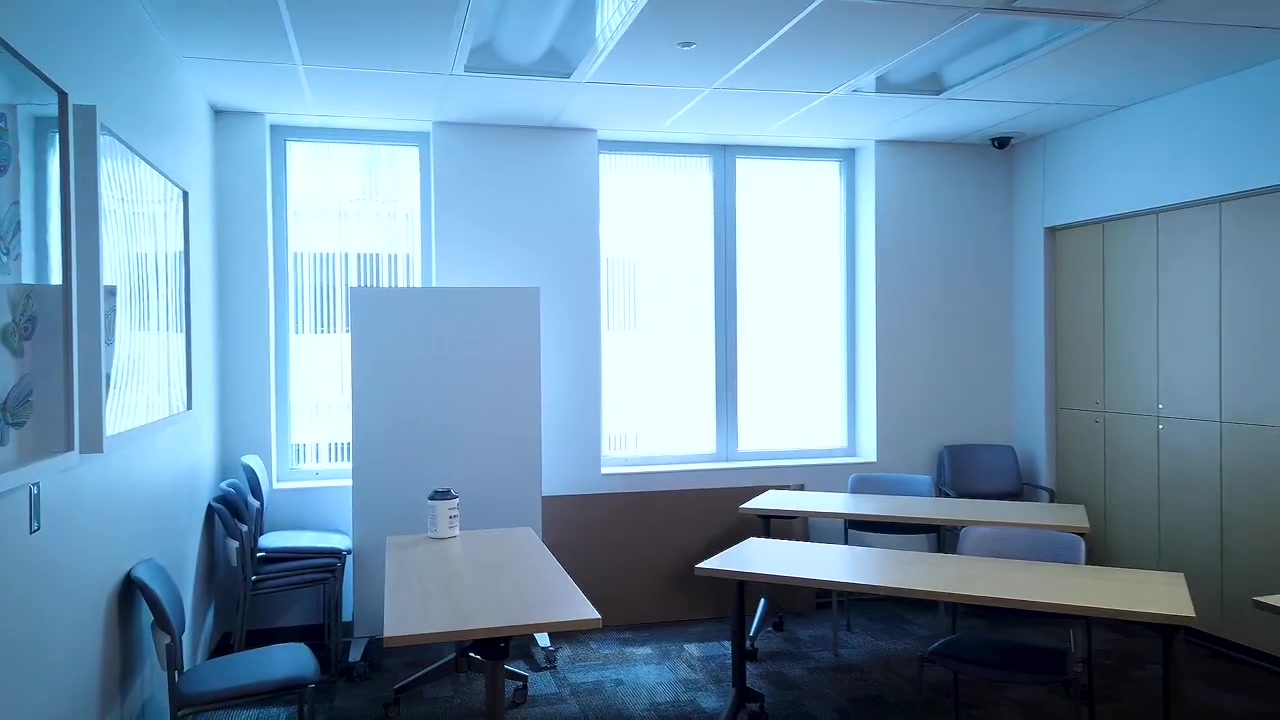chair: (914, 525, 1084, 720), (205, 454, 352, 675), (128, 556, 324, 720), (210, 481, 347, 664), (939, 443, 1056, 636), (206, 506, 334, 660), (843, 473, 943, 632)
table: (693, 535, 1199, 720), (738, 489, 1090, 662), (382, 525, 603, 720), (1251, 591, 1280, 615)
